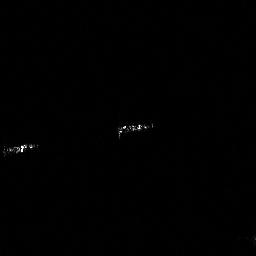ship: (115, 119, 156, 140), (2, 140, 41, 156)
